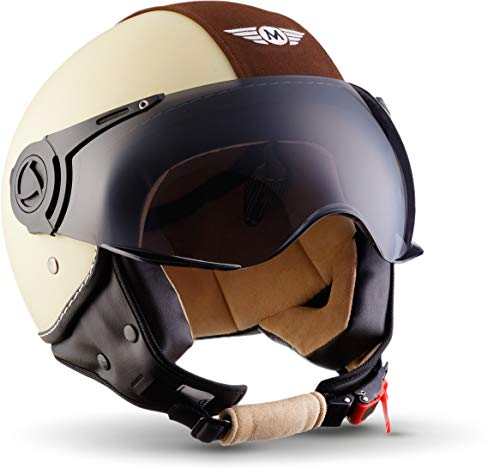with_helmet: (9, 2, 420, 376)
